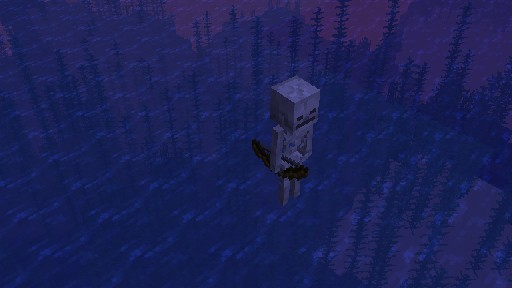skeleton: (251, 74, 320, 205)
